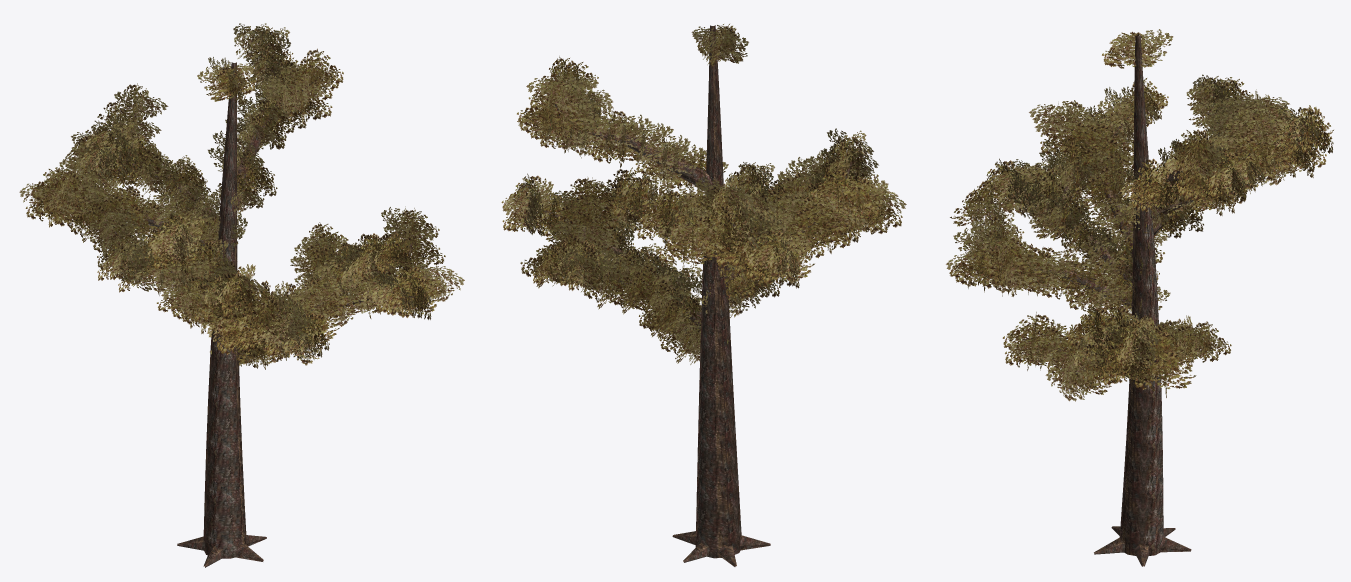
File: tree_3d_05_golden_beige_lod0.glb
The picture shows the model from 3 angles, left to right: view 1: azimuth 30°, elevation 25°; view 2: azimuth 150°, elevation 25°; view 3: azimuth 270°, elevation 25°; orthographic projection. The views are drawn at different scales.
Visible parts, largest first — view 1: foliage_cards, wood_geometry; view 2: foliage_cards, wood_geometry; view 3: foliage_cards, wood_geometry.
Part boxes in pixels (<box>): foliage_cards: <box>19,23,464,369</box>; wood_geometry: <box>92,47,432,567</box>; foliage_cards: <box>501,24,906,364</box>; wood_geometry: <box>520,25,854,566</box>; foliage_cards: <box>946,29,1333,401</box>; wood_geometry: <box>983,35,1303,566</box>.
Size of the model in its own units: 11.23 by 14.66 by 10.09.
2 materials, 2 textured.
